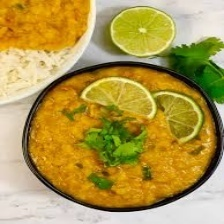dal: (0, 0, 95, 46)
